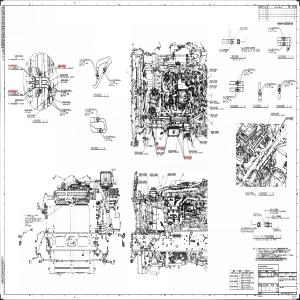PartNumber: (209, 80, 218, 82), (139, 173, 147, 175), (138, 180, 146, 182), (150, 173, 158, 175), (184, 156, 192, 158), (189, 150, 197, 152), (200, 140, 208, 142), (210, 114, 218, 116), (210, 106, 218, 108), (230, 275, 238, 277), (230, 280, 238, 282), (246, 192, 254, 194), (240, 26, 248, 28), (58, 65, 66, 67), (60, 74, 68, 76), (62, 101, 70, 103), (27, 114, 35, 116), (24, 109, 32, 111), (15, 99, 23, 101), (168, 150, 176, 152), (157, 147, 165, 149), (135, 151, 142, 153), (157, 152, 164, 154), (210, 100, 217, 102), (210, 85, 217, 87), (210, 68, 217, 70), (230, 286, 237, 288), (61, 79, 68, 81), (168, 173, 176, 174), (211, 131, 219, 132), (271, 113, 279, 114), (286, 117, 294, 118), (14, 55, 22, 56)
